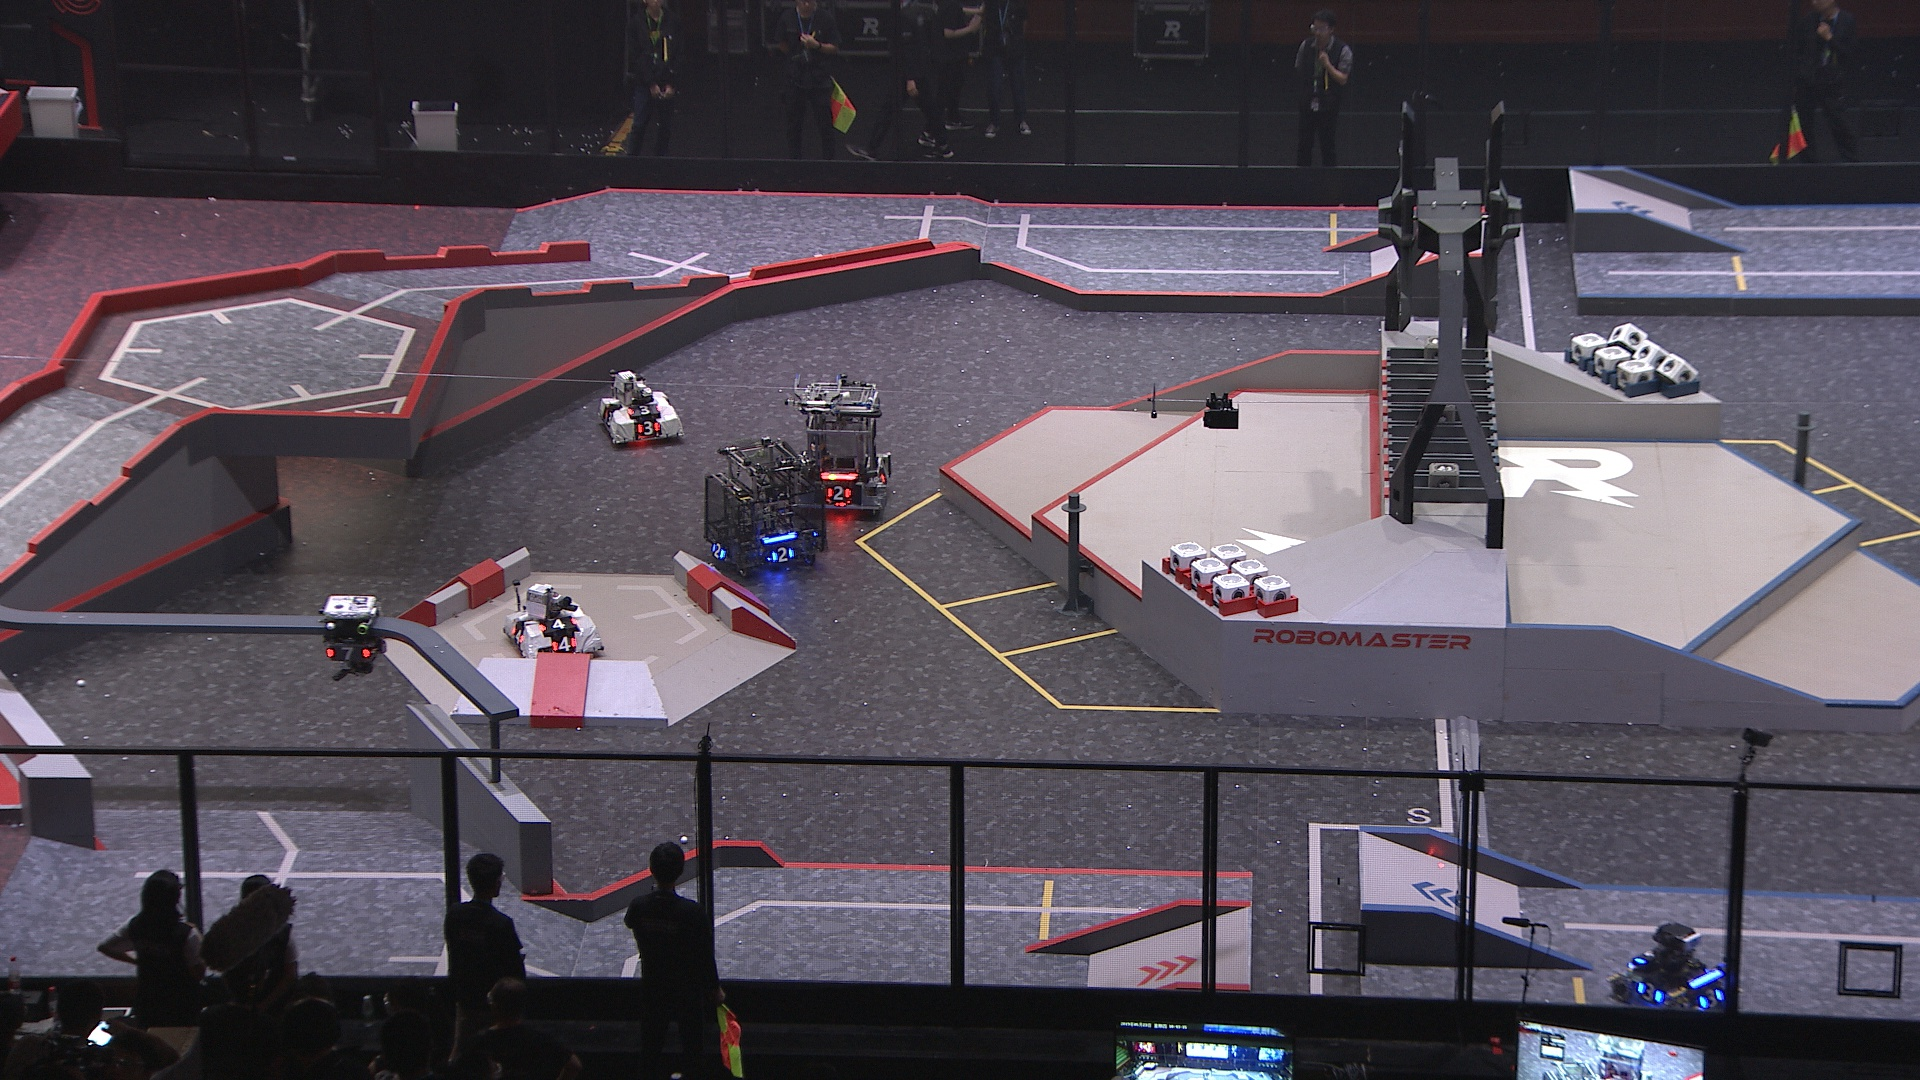armor: (327, 641, 372, 665), (1633, 977, 1664, 1010), (1695, 984, 1727, 1011), (537, 615, 582, 633), (770, 543, 798, 568), (547, 636, 582, 655), (1631, 945, 1658, 969), (823, 483, 852, 504), (633, 418, 666, 436), (707, 537, 731, 562), (505, 622, 529, 646), (624, 404, 662, 418), (876, 465, 893, 488), (603, 405, 618, 427)
car: (698, 433, 823, 578), (785, 376, 894, 520), (1610, 918, 1741, 1026), (500, 574, 605, 665), (593, 367, 683, 448)
watcher: (319, 591, 389, 680)
